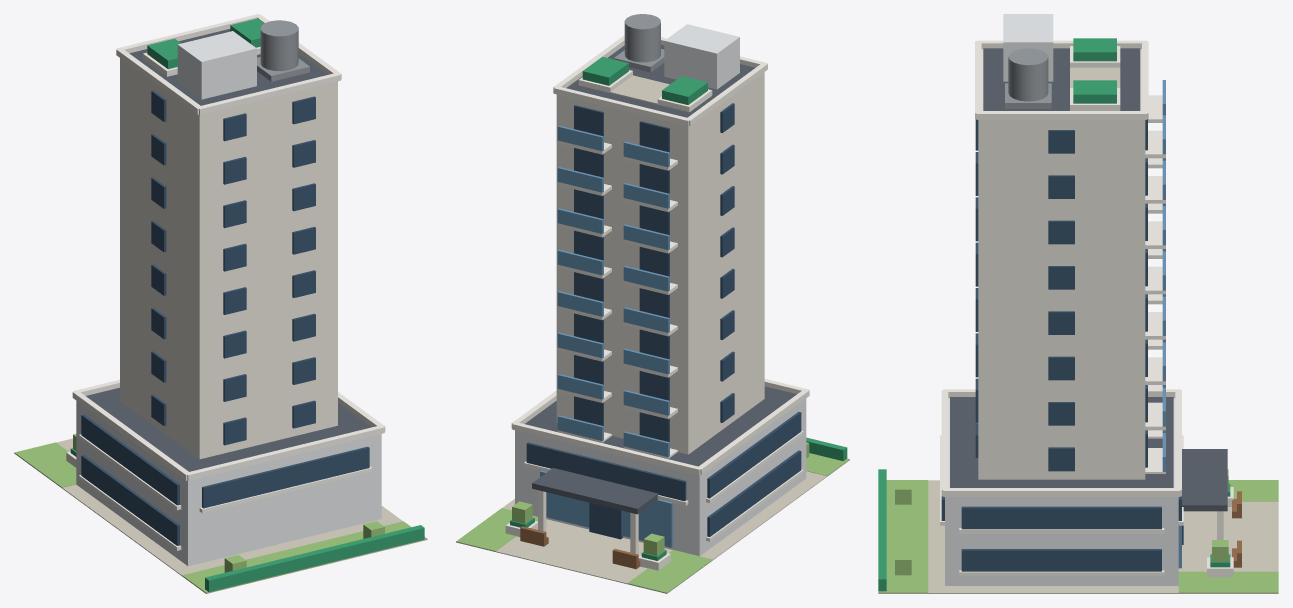
3 renders of one model, left to right at view 1: azimuth 30°, elevation 25°; view 2: azimuth 150°, elevation 25°; view 3: azimuth 270°, elevation 25°, orthographic. The views are drawn at different scales.
Parts seen in each view (by area): view 1: tower, podium, window_glass (×16), window_band (×3), parapet (×5), roof (×2), plant_room, ground, hedge, lawn (×2), sill (×3), water_tank (+2 smaller); view 2: tower, balcony_glass (×16), window_glass (×16), podium, window_band (×3), ground, parapet (×5), roof (×2), plant_room, lawn (×3), canopy, storefront (+6 smaller); view 3: tower, podium, window_band (×2), roof (×2), ground, lawn (×3), parapet (×6), window_glass (×8), canopy, sill (×2), plant_room, roof_hedge (×2) (+5 smaller).
Boxes of the visible parts, left/top/right/bottom form: tower: left=120, top=58, right=337, bottom=459; podium: left=76, top=401, right=381, bottom=566; window_glass (×16): left=223, top=96, right=315, bottom=445; window_band (×3): left=81, top=414, right=369, bottom=545; parapet (×5): left=72, top=14, right=384, bottom=480; roof (×2): left=86, top=29, right=371, bottom=471; plant_room: left=177, top=31, right=256, bottom=99; ground: left=15, top=438, right=427, bottom=593; hedge: left=205, top=525, right=424, bottom=591; lawn (×2): left=14, top=442, right=427, bottom=593; sill (×3): left=78, top=434, right=372, bottom=550; water_tank: left=260, top=20, right=298, bottom=71; tower: left=556, top=72, right=764, bottom=454; balcony_glass (×16): left=557, top=125, right=669, bottom=456; window_glass (×16): left=574, top=105, right=669, bottom=442; podium: left=515, top=398, right=806, bottom=556; window_band (×3): left=526, top=411, right=801, bottom=536; ground: left=456, top=459, right=849, bottom=593; parapet (×5): left=512, top=35, right=809, bottom=475; roof (×2): left=525, top=44, right=796, bottom=466; plant_room: left=664, top=24, right=739, bottom=89; lawn (×3): left=456, top=453, right=849, bottom=592; canopy: left=532, top=468, right=658, bottom=514; storefront: left=540, top=470, right=673, bottom=547; tower: left=978, top=49, right=1145, bottom=479; podium: left=945, top=398, right=1178, bottom=585; window_band (×2): left=961, top=506, right=1161, bottom=571; roof (×2): left=950, top=48, right=1173, bottom=487; ground: left=878, top=480, right=1278, bottom=593; lawn (×3): left=878, top=480, right=1278, bottom=592; parapet (×6): left=941, top=40, right=1181, bottom=496; window_glass (×8): left=1048, top=130, right=1074, bottom=471; canopy: left=1182, top=449, right=1227, bottom=511; sill (×2): left=959, top=528, right=1164, bottom=576; plant_room: left=1003, top=14, right=1053, bottom=81; roof_hedge (×2): left=1073, top=38, right=1116, bottom=103.
Size of the model in its own units: 16 by 32.97 by 24.
